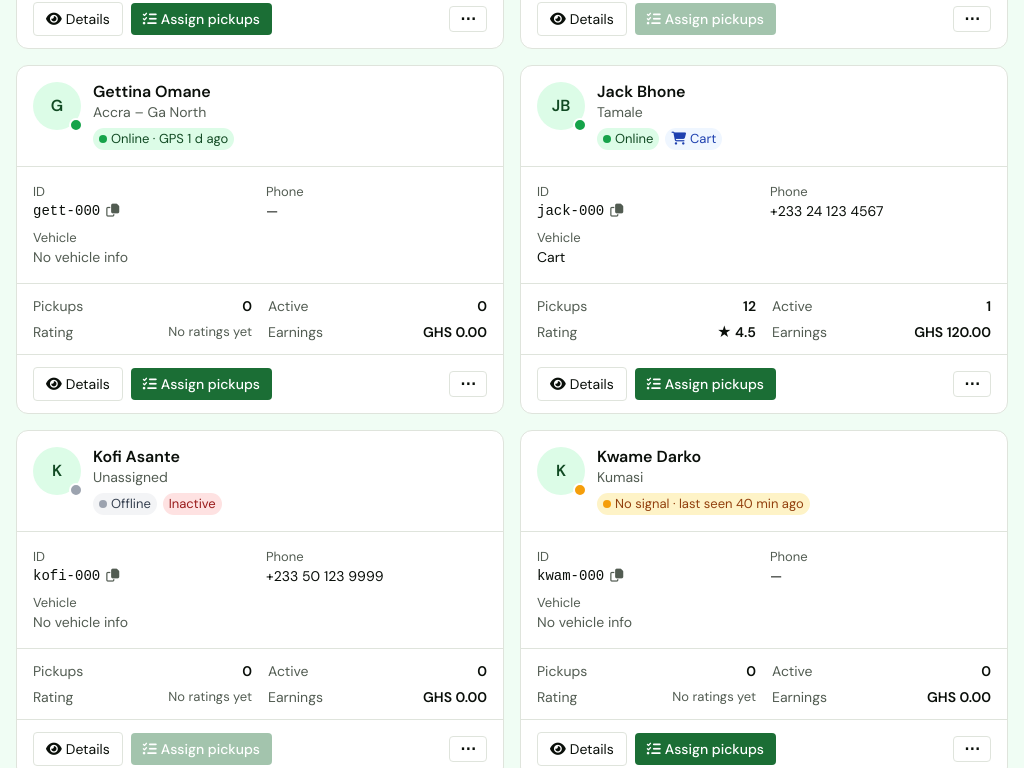
Scenario: the Add form always opens empty with no zone preselected
(page scrolled)
Click the button named "More actions": (972, 384) [953,371,991,397]
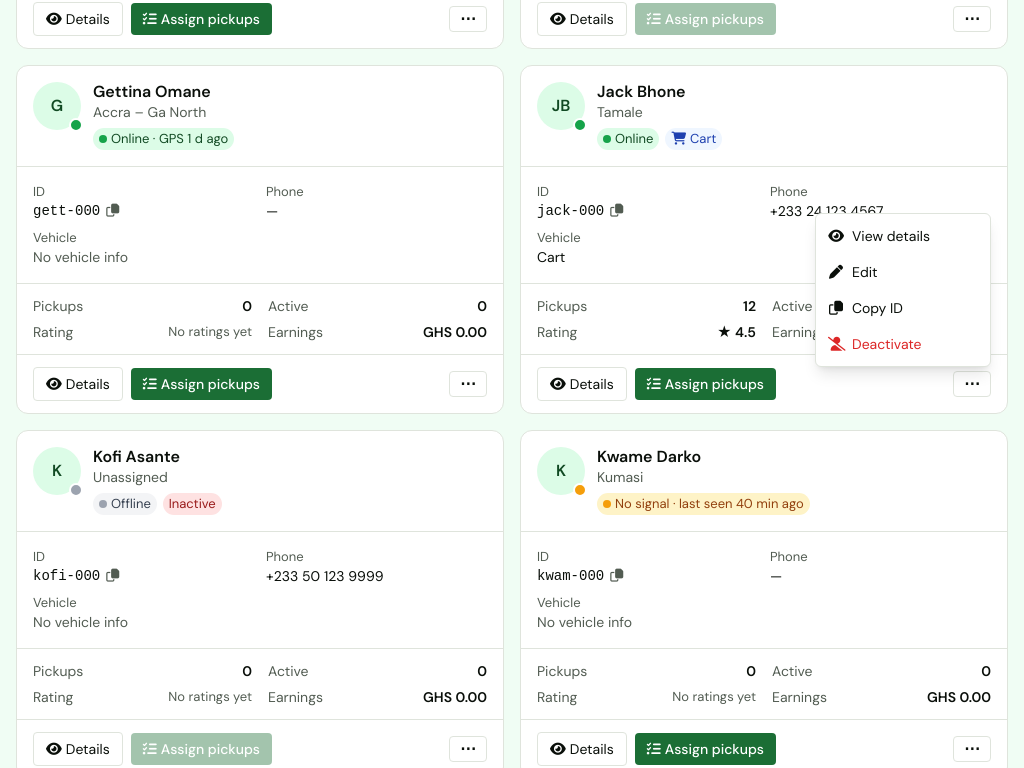
Click the menu item "Edit": (903, 272) [816,254,990,290]
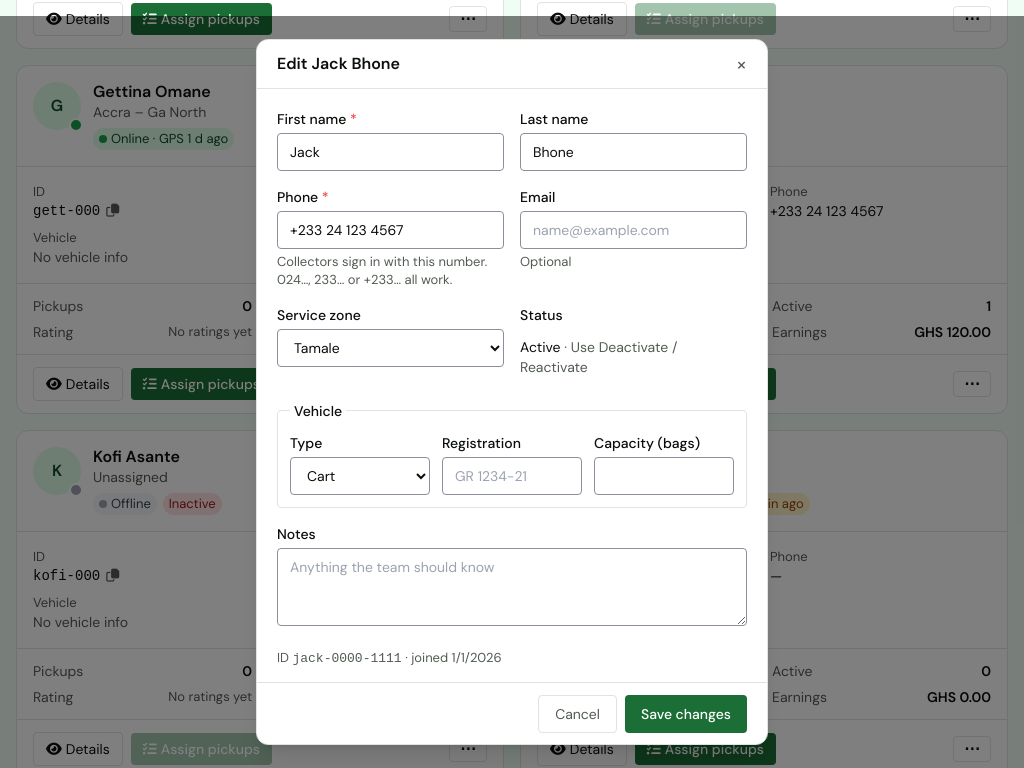
Now the field labelled "First name *" holds "Jack", box [277,133,504,171]
Click the button "Cancel": (578, 713) [538,694,617,732]
(page scrolled)
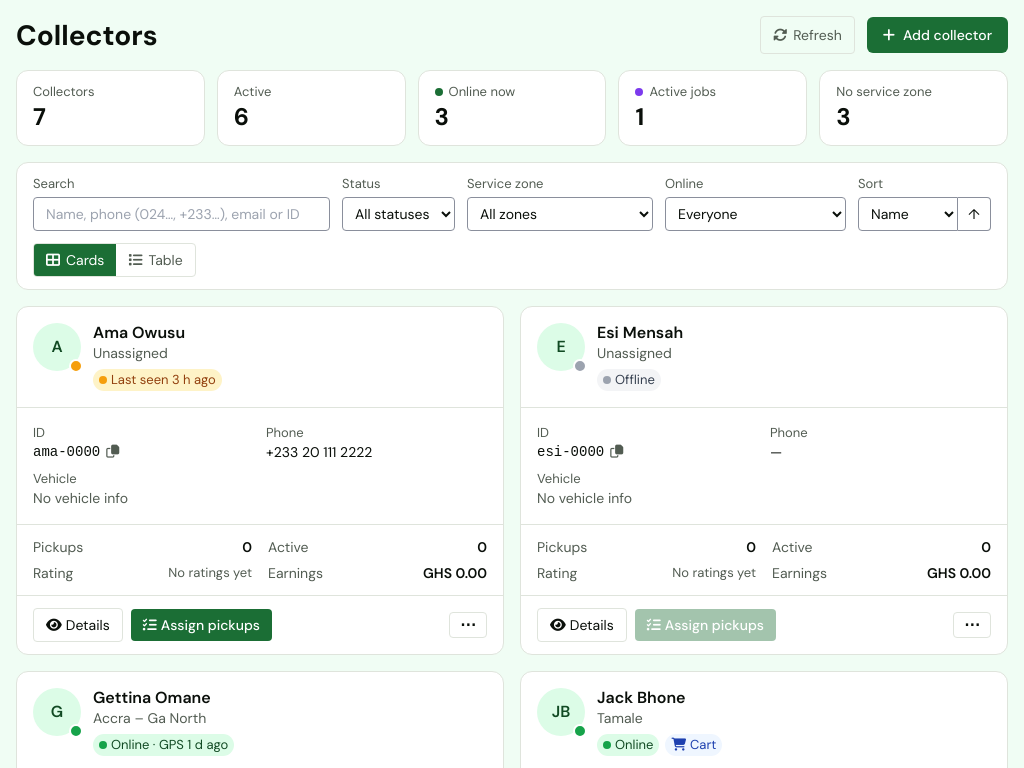
Click the button "Add collector": (937, 35) [867,17,1008,53]
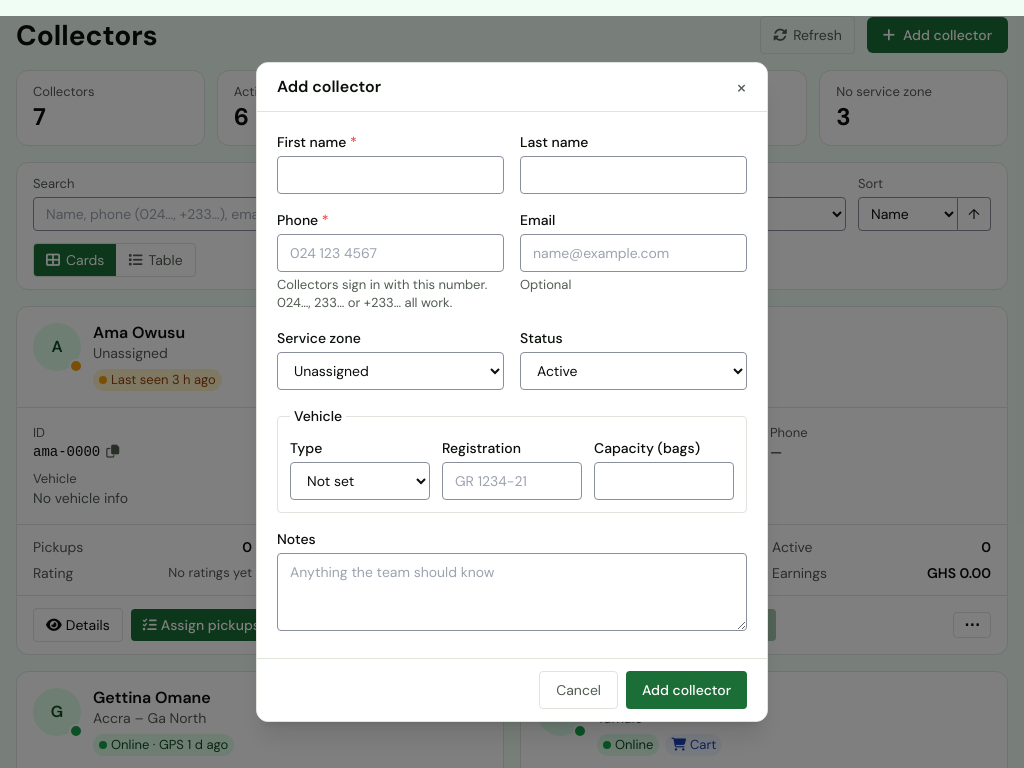
Now the field labelled "First name *" is empty, box [277,156,504,194]
Now the dropdown labelled "Service zone" shows "Unassigned", box [277,352,504,390]
